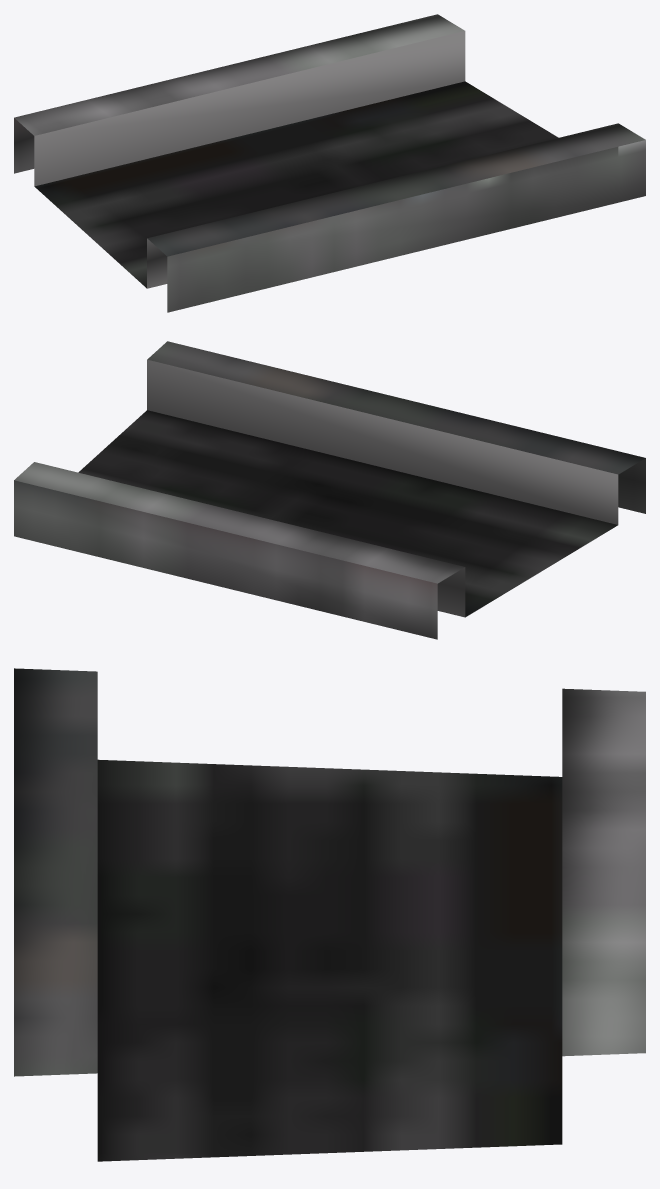
Rendered from Shared - Armor - Tanker Truck - Damage State 33 - CVTanker_d33.glb.
The picture shows the model from 3 angles, top to bottom: view 1: azimuth 30°, elevation 25°; view 2: azimuth 150°, elevation 25°; view 3: azimuth 270°, elevation 25°; orthographic projection. The views are drawn at different scales.
Parts seen in each view (by area): view 1: CVTANKER_D33; view 2: CVTANKER_D33; view 3: CVTANKER_D33.
Part boxes in pixels (bbox=[...]): CVTANKER_D33: bbox=[14, 14, 645, 312]; CVTANKER_D33: bbox=[14, 341, 645, 639]; CVTANKER_D33: bbox=[14, 668, 645, 1161].
Size of the model in its own units: 8.02 by 0.8981 by 5.25.
Materials: 1 (1 with a texture image).
